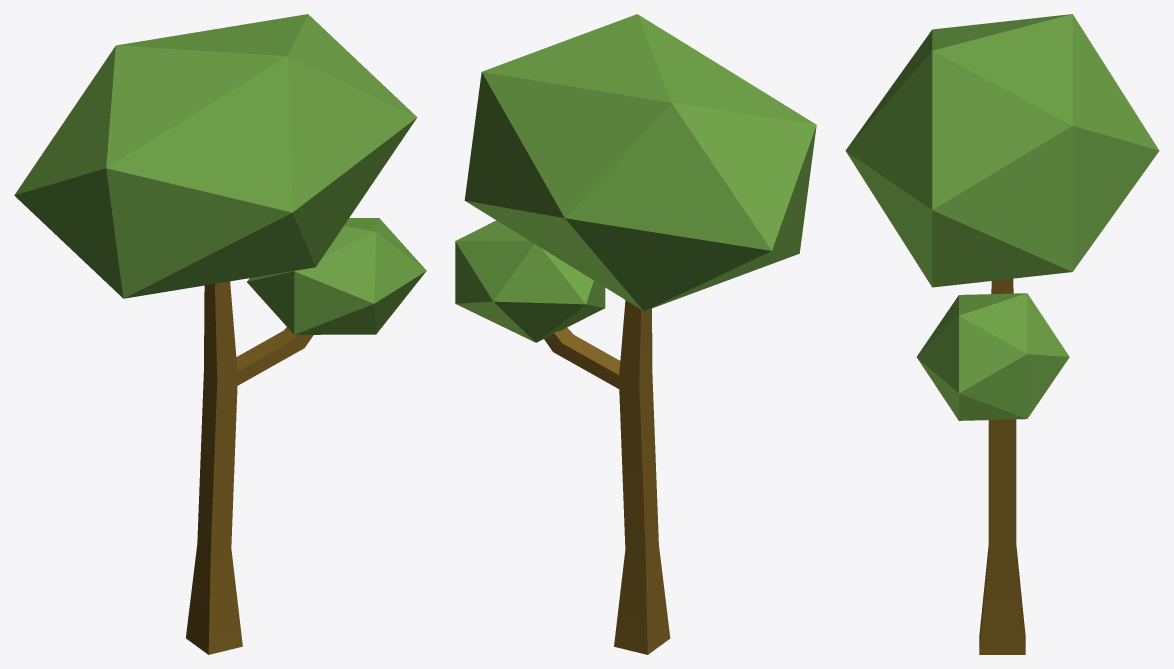
File: Arbol 2.fbx
3 views of the same model, side by side, from view 1: azimuth 30°, elevation 25°; view 2: azimuth 150°, elevation 25°; view 3: azimuth 270°, elevation 25° (orthographic). The views are drawn at different scales.
Visible parts, largest first — view 1: Arbol1; view 2: Arbol1; view 3: Arbol1.
Boxes of the visible parts, <box> form: Arbol1: <box>14,14,426,654</box>; Arbol1: <box>455,14,816,654</box>; Arbol1: <box>845,14,1159,654</box>.
Bounding box in the file's own units: 3.87 × 6.24 × 2.89.
